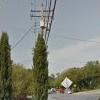Tree: (24, 32, 60, 100)
